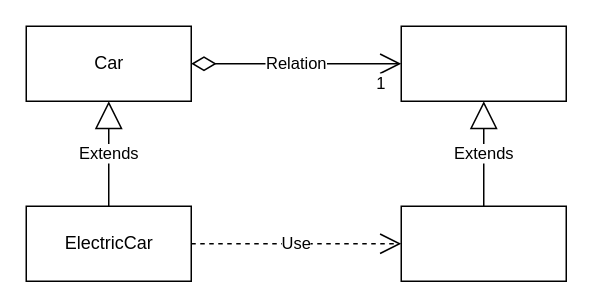
The diagram is 593 pixels wide and 308 high, and some of its shapes have lost their labels. The centre of each missing label's shape, as x and y in pixels:
ElectricMotor: pixel 483 243
Engine: pixel 483 63
